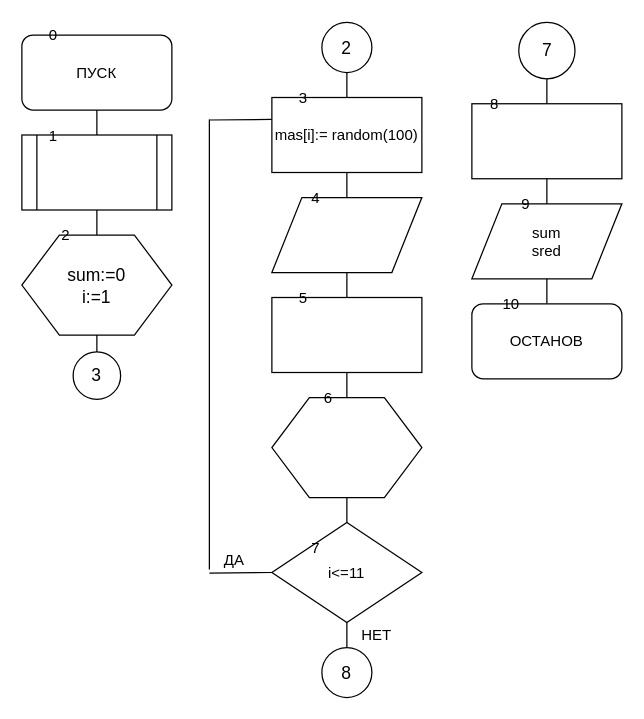
Some shapes in this 644 by 719 pixel diagram are drawn without their labels. The box of each missing label's shape, as (x1, y1, x2, y2) in pixels:
i:=i+1: (271, 396, 422, 498)
mas[i]: (271, 196, 422, 272)
randomize: (21, 134, 172, 210)
sred:=sum/11: (471, 102, 622, 179)
sum:=sum+mas[i]: (271, 296, 422, 372)
